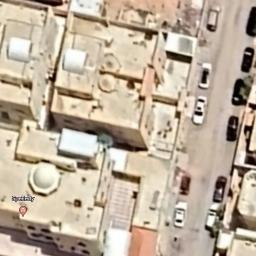sedan: (190, 95, 209, 126), (205, 2, 223, 34), (171, 200, 190, 230), (229, 77, 246, 109), (240, 44, 256, 75), (224, 114, 240, 142), (197, 61, 212, 90), (245, 4, 256, 36)
van: (212, 172, 229, 204), (203, 202, 221, 232), (178, 172, 194, 197)
